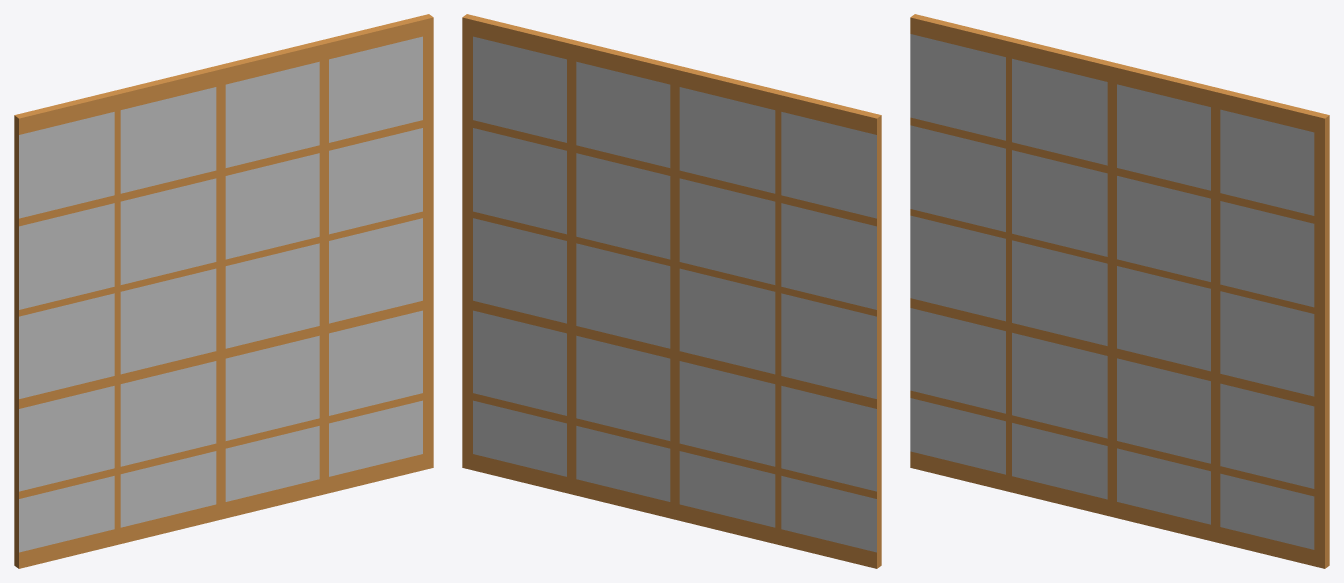
Rendered from wall1.gltf.
The picture shows the model from 3 angles, left to right: view 1: azimuth 30°, elevation 25°; view 2: azimuth 150°, elevation 25°; view 3: azimuth 330°, elevation 25°; orthographic projection.
Visible parts, largest first — view 1: Cube_005_Cube.007; view 2: Cube_005_Cube.007; view 3: Cube_005_Cube.007.
Part boxes in pixels (box(x1,y1,x2,y2)): Cube_005_Cube.007: box(14, 14, 433, 568); Cube_005_Cube.007: box(462, 14, 881, 568); Cube_005_Cube.007: box(910, 14, 1329, 568).
Bounding box in the file's own units: 2.92 × 3.03 × 0.0574.
